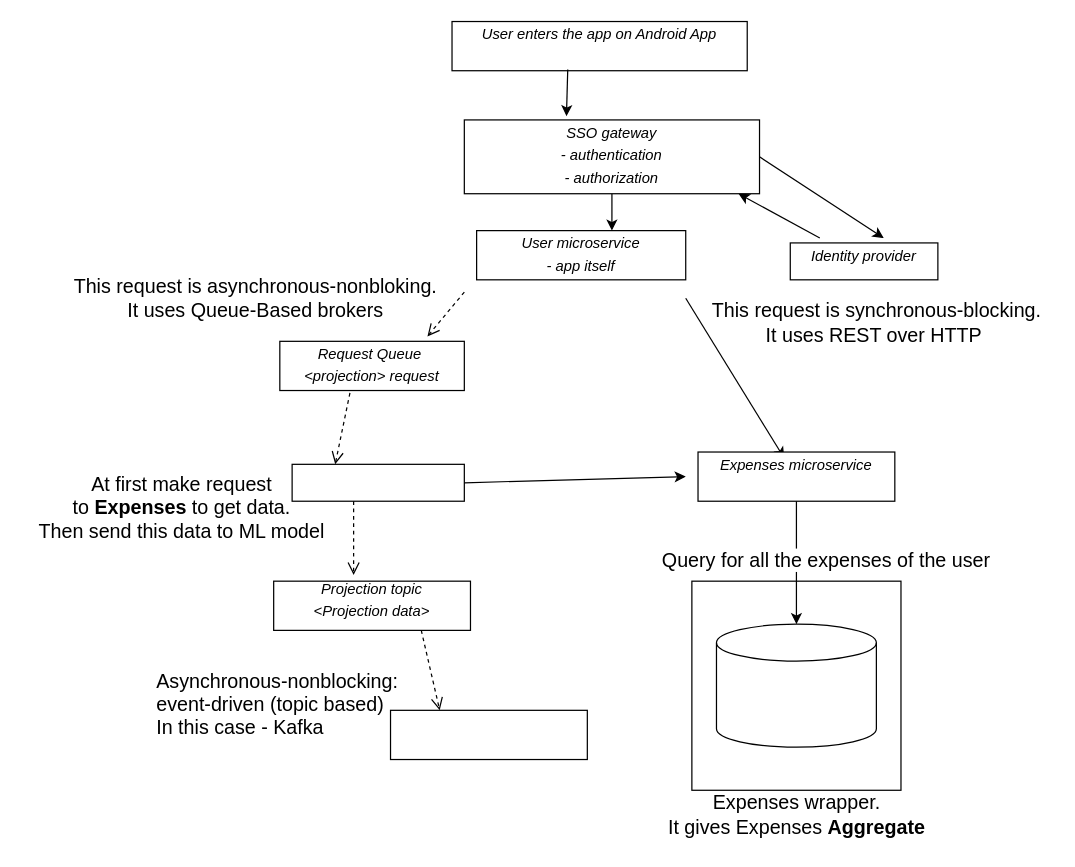
This 1075x867 diagram has some shape labels left out. The centre of each missing label's shape, as x and y in pixels:
AWS with ML model: the point at 488,734
Expenses Database: the point at 795,685
Projection microservice: the point at 377,482
